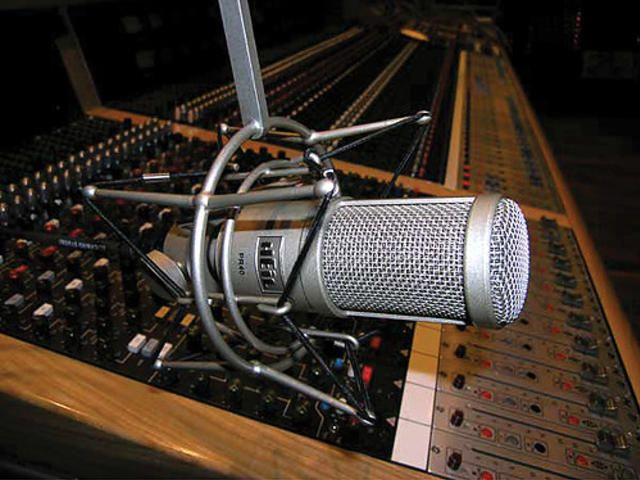microphone: (80, 157, 537, 371)
